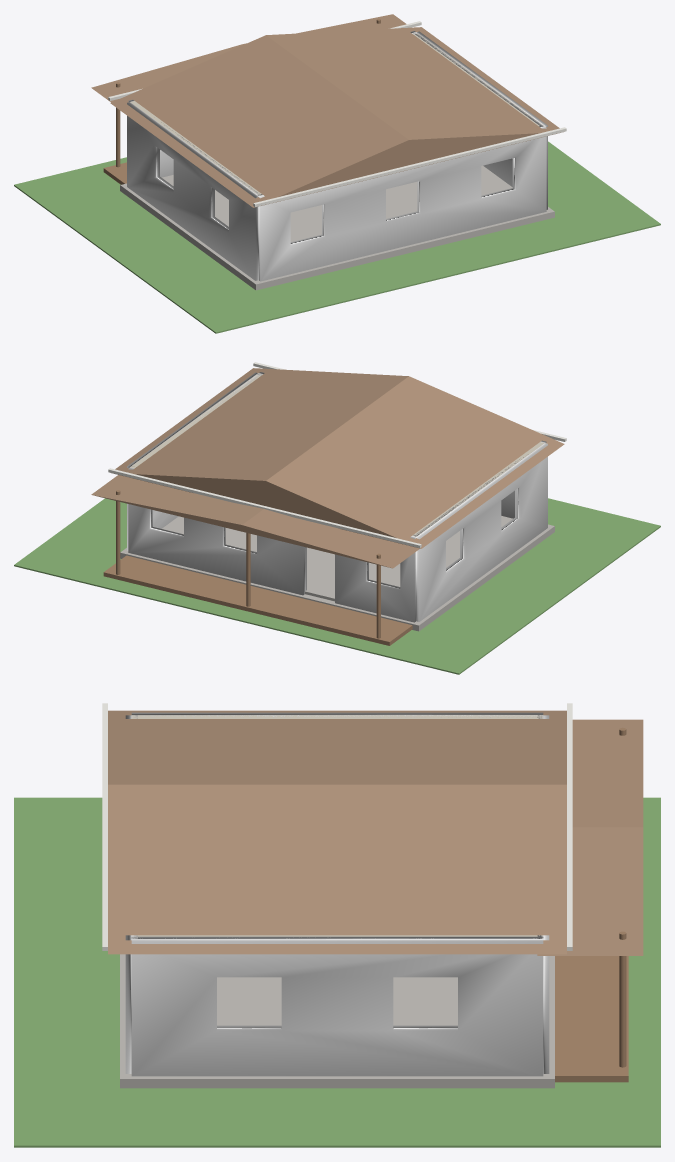
Rendered from bungalow_shell.glb.
The picture shows the model from 3 angles, top to bottom: view 1: azimuth 30°, elevation 25°; view 2: azimuth 150°, elevation 25°; view 3: azimuth 270°, elevation 25°; orthographic projection. The views are drawn at different scales.
Visible parts, largest first — view 1: roof, lawn, back_wall, left_wall, foundation, floor, porch_roof, back_gutter, right_wall, ceiling; view 2: roof, lawn, front_wall, left_wall, porch_roof, porch_slab, floor, foundation, front_gutter, ceiling, right_wall; view 3: roof, lawn, right_wall, porch_roof, porch_slab, foundation, floor, ceiling, left_wall, front_gutter, back_gutter, post_r (+2 smaller).
Part boxes in pixels (x1=…): roof: x1=110, y1=27, x2=563, y2=207; lawn: x1=14, y1=141, x2=660, y2=333; back_wall: x1=257, y1=125, x2=546, y2=281; left_wall: x1=127, y1=102, x2=259, y2=280; foundation: x1=120, y1=183, x2=554, y2=290; floor: x1=162, y1=165, x2=512, y2=241; porch_roof: x1=91, y1=14, x2=406, y2=102; back_gutter: x1=253, y1=127, x2=566, y2=207; right_wall: x1=413, y1=31, x2=547, y2=209; ceiling: x1=130, y1=33, x2=542, y2=195; roof: x1=111, y1=368, x2=564, y2=548; lawn: x1=14, y1=498, x2=660, y2=674; front_wall: x1=128, y1=467, x2=417, y2=622; left_wall: x1=414, y1=443, x2=547, y2=621; porch_roof: x1=91, y1=475, x2=419, y2=568; porch_slab: x1=103, y1=555, x2=412, y2=645; floor: x1=162, y1=516, x2=512, y2=601; foundation: x1=120, y1=524, x2=554, y2=631; front_gutter: x1=108, y1=468, x2=421, y2=548; ceiling: x1=130, y1=373, x2=544, y2=536; right_wall: x1=127, y1=372, x2=261, y2=550; roof: x1=108, y1=710, x2=566, y2=954; lawn: x1=14, y1=797, x2=660, y2=1147; right_wall: x1=131, y1=936, x2=543, y2=1076; porch_roof: x1=537, y1=719, x2=643, y2=955; porch_slab: x1=555, y1=956, x2=628, y2=1082; foundation: x1=120, y1=954, x2=554, y2=1088; floor: x1=217, y1=977, x2=457, y2=1025; ceiling: x1=131, y1=715, x2=543, y2=938; left_wall: x1=131, y1=712, x2=543, y2=717; front_gutter: x1=567, y1=703, x2=572, y2=950; back_gutter: x1=102, y1=703, x2=107, y2=950; post_r: x1=619, y1=931, x2=626, y2=1067.
Size of the model in its own units: 14 by 3.55 by 11.
